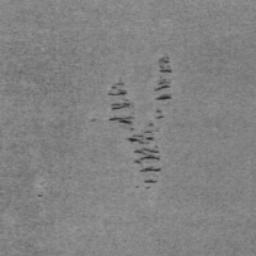Secondary rust skin: (127, 134, 161, 165), (153, 78, 173, 101), (107, 82, 128, 97), (158, 55, 173, 74), (108, 115, 136, 125), (110, 101, 131, 112), (139, 165, 162, 174), (143, 178, 158, 184)
